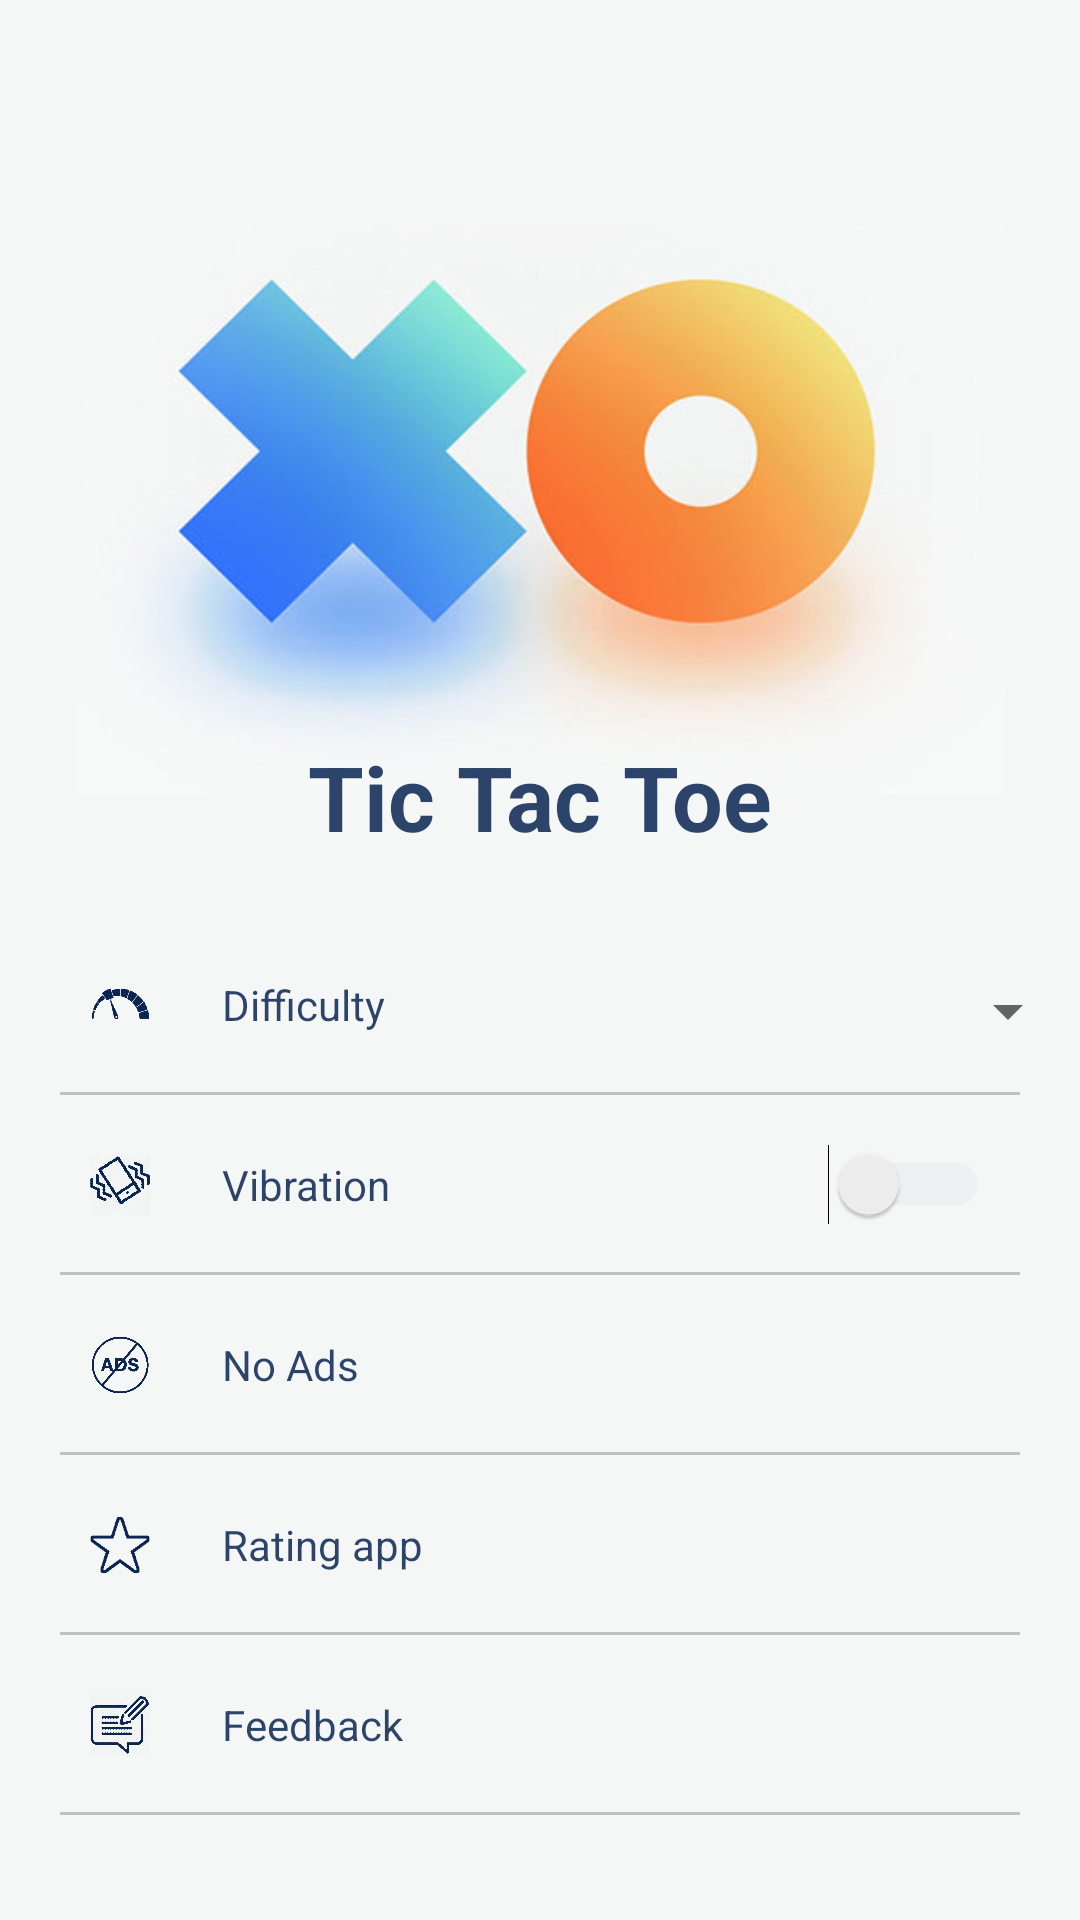

Screen size 1080w x 1920h. Icon name, then its box in pixels as (x1=x1, y1=y1, x2=x2, y2=y2):
star: (x1=90, y1=1517, x2=150, y2=1573)
